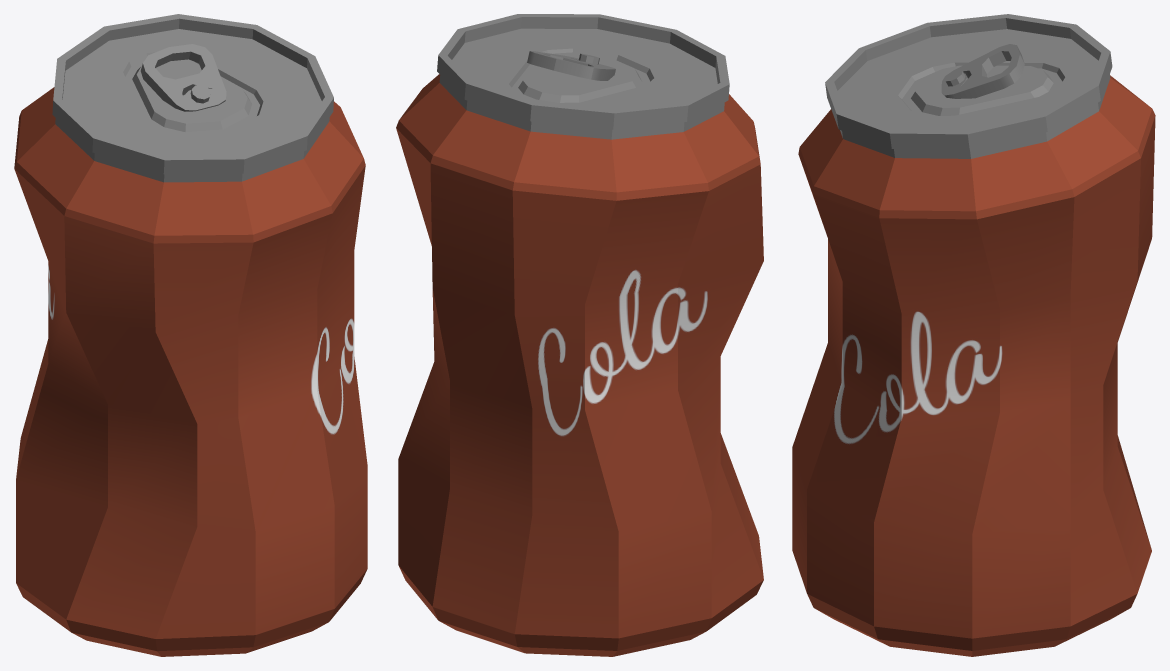
The model's file is sodacanbroken.fbx.
3 views of the same model, side by side, from view 1: azimuth 30°, elevation 25°; view 2: azimuth 150°, elevation 25°; view 3: azimuth 270°, elevation 25° (orthographic). The views are drawn at different scales.
Parts seen in each view (by area): view 1: sodabroken; view 2: sodabroken; view 3: sodabroken.
Boxes of the visible parts, x1,y1,x2,y2 form: sodabroken: (14, 14, 367, 656); sodabroken: (396, 14, 763, 656); sodabroken: (792, 14, 1155, 656).
Size of the model in its own units: 40.06 by 66.85 by 40.78.
Materials: 1 (1 with a texture image).
